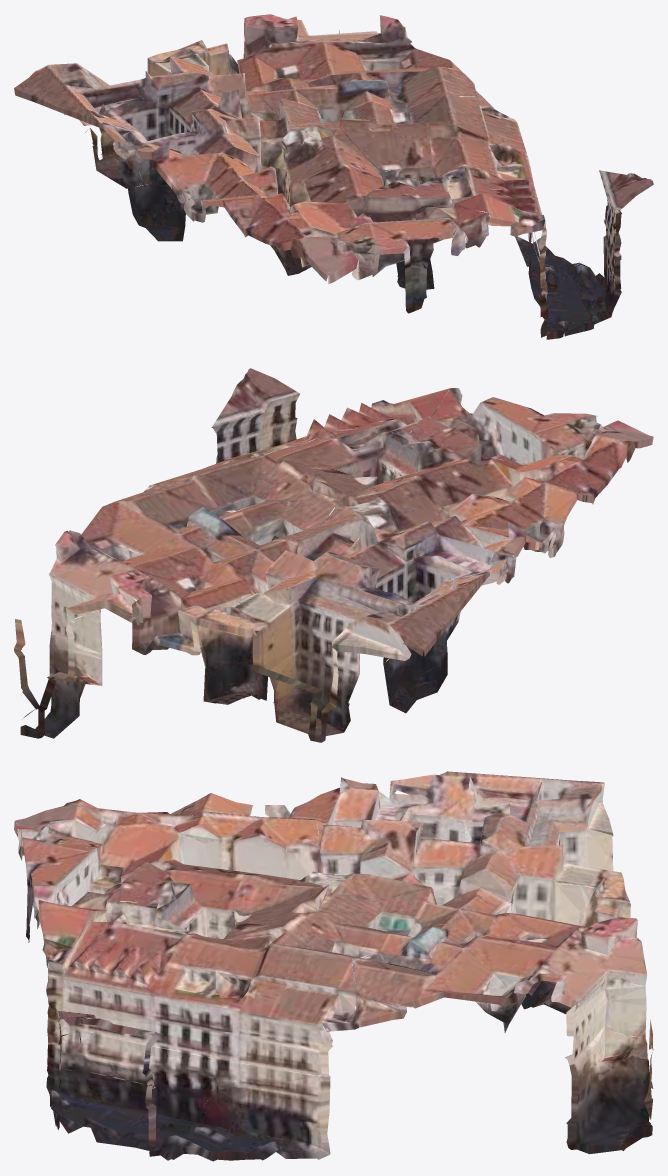
3 views of the same model, one above another, from view 1: azimuth 30°, elevation 25°; view 2: azimuth 150°, elevation 25°; view 3: azimuth 270°, elevation 25° (orthographic). The views are drawn at different scales.
Visible parts, largest first — view 1: Mesh_0; view 2: Mesh_0; view 3: Mesh_0.
Boxes of the visible parts, x1,y1,x2,y2 form: Mesh_0: (14,14,653,339); Mesh_0: (14,368,653,742); Mesh_0: (14,771,653,1161).
Bounding box in the file's own units: 66.86 × 29.66 × 82.66.
2 materials, 2 textured.
